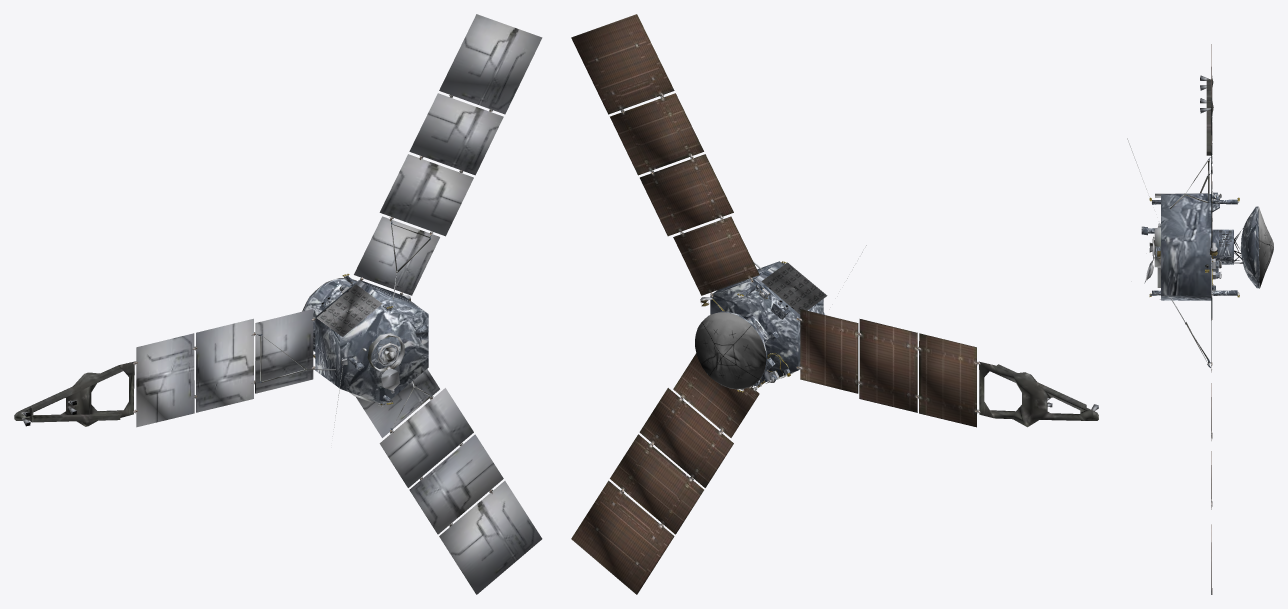
Rendered from juno_lod2.glb.
3 views of the same model, side by side, from view 1: azimuth 30°, elevation 25°; view 2: azimuth 150°, elevation 25°; view 3: azimuth 270°, elevation 25° (orthographic).
Visible parts, largest first — view 1: juno_lod2; view 2: juno_lod2; view 3: juno_lod2.
Part boxes in pixels (x1=…): juno_lod2: x1=14, y1=14, x2=542, y2=594; juno_lod2: x1=571, y1=14, x2=1098, y2=594; juno_lod2: x1=1127, y1=44, x2=1273, y2=594.
Size of the model in its own units: 18.12 by 19.05 by 4.37.
8 materials, 8 textured.
